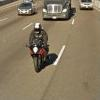Motorcycle: (18, 21, 51, 72)
